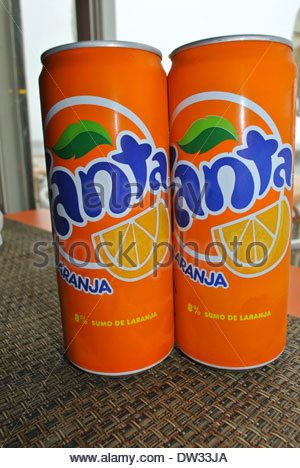fanta: (41, 44, 173, 369), (169, 49, 294, 365)
